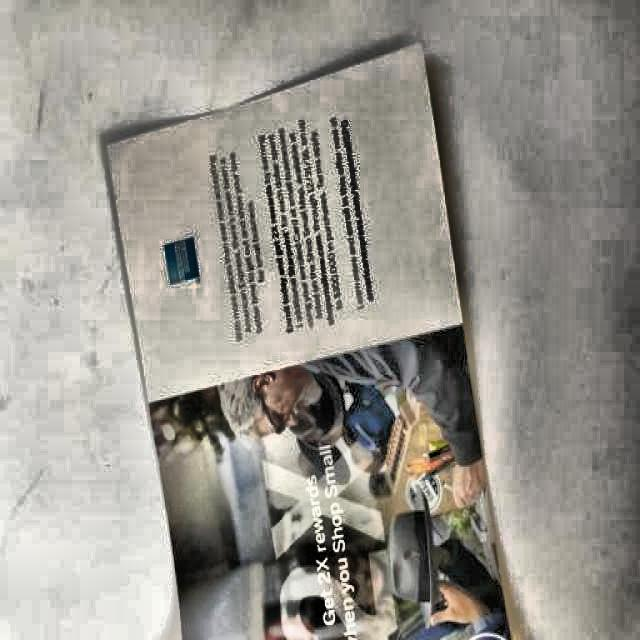Paper: (103, 44, 513, 639)
